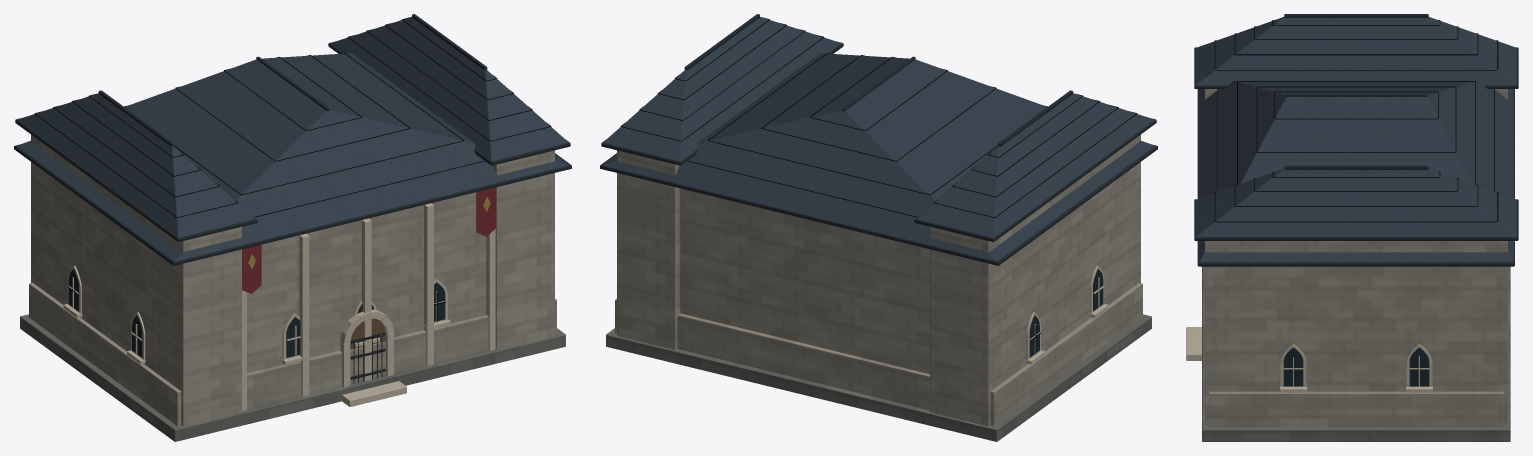
The model's file is Barracks.fbx.
3 renders of one model, left to right at view 1: azimuth 30°, elevation 25°; view 2: azimuth 150°, elevation 25°; view 3: azimuth 270°, elevation 25°, orthographic.
Parts seen in each view (by area): view 1: Barracks.001; view 2: Barracks.001; view 3: Barracks.001.
Part boxes in pixels (box(x1,y1,x2,y2)): Barracks.001: box(14, 14, 571, 441); Barracks.001: box(600, 14, 1157, 441); Barracks.001: box(1186, 14, 1518, 441).
Size of the model in its own units: 16.31 by 10.11 by 11.84.
